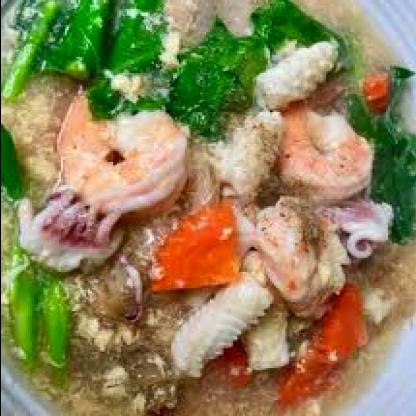Laadna: (1, 2, 409, 415)
